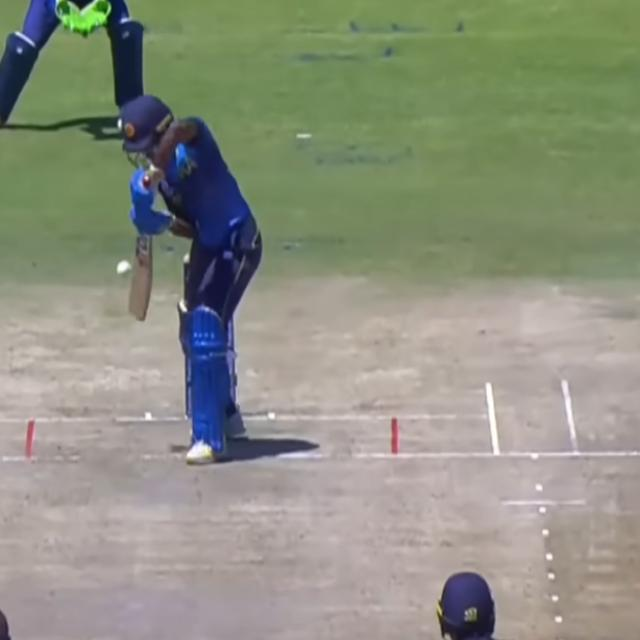bat: (129, 229, 156, 324)
